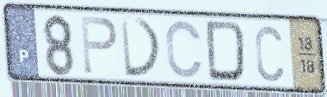8: (40, 11, 76, 78)
C: (164, 18, 205, 80), (253, 23, 286, 84)
D: (118, 14, 165, 80), (204, 19, 248, 85)
P: (78, 14, 119, 77)
